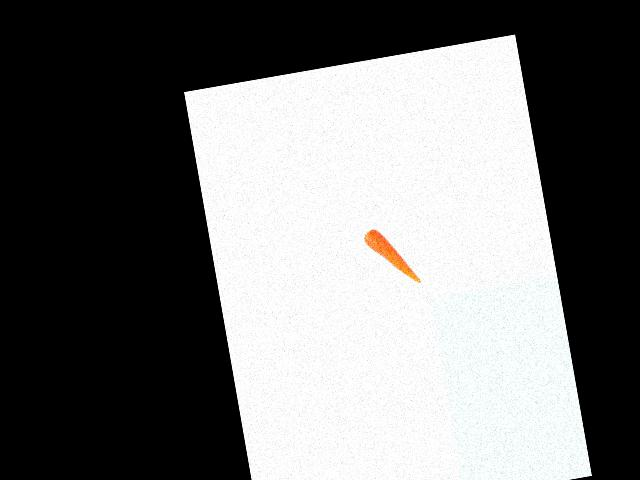carrot: (362, 221, 425, 294)
